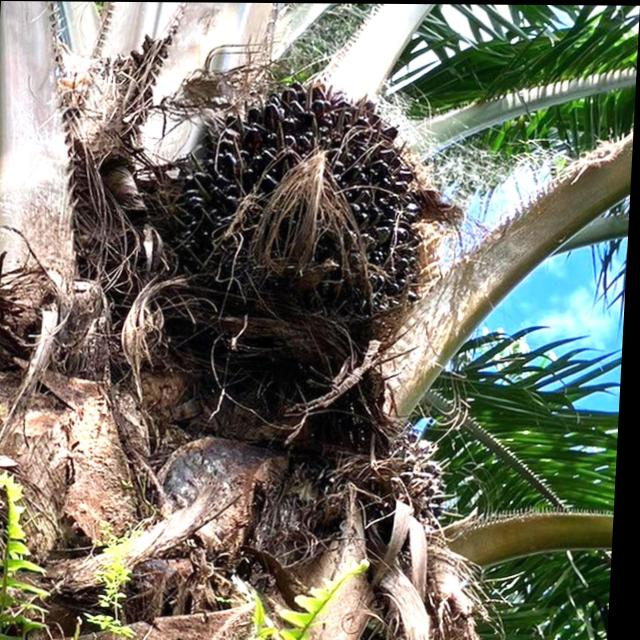ripe: (179, 82, 449, 380)
